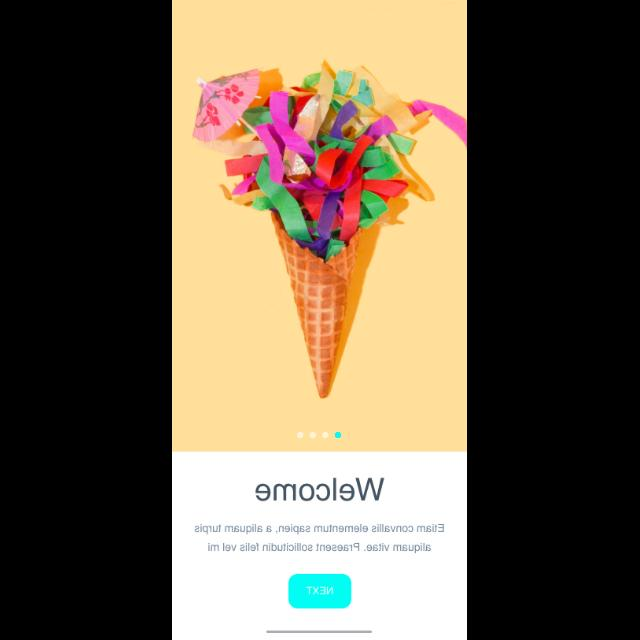image: (192, 60, 466, 398)
pageindicator: (297, 432, 341, 438)
text: (195, 524, 445, 554), (255, 478, 385, 502)
textbutton: (288, 574, 352, 608)
